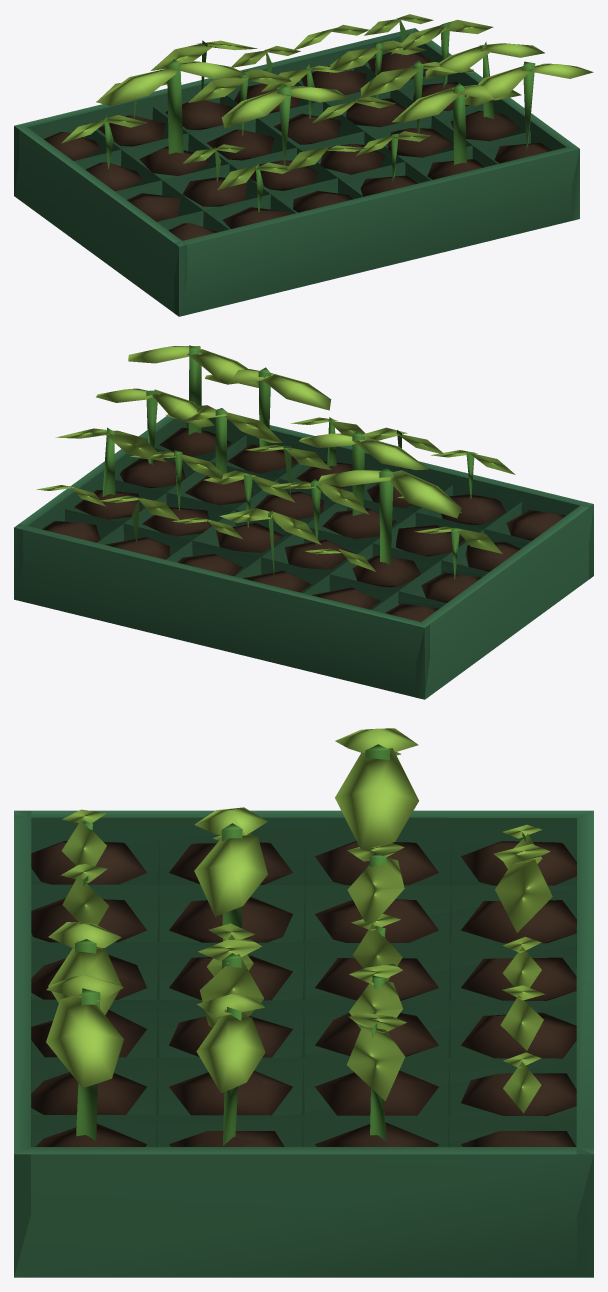
Rendered from canopy_seedling_flat_lod2.glb.
The picture shows the model from 3 angles, top to bottom: view 1: azimuth 30°, elevation 25°; view 2: azimuth 150°, elevation 25°; view 3: azimuth 270°, elevation 25°; orthographic projection. The views are drawn at different scales.
Visible parts, largest first — view 1: canopy_seedling_flat.001; view 2: canopy_seedling_flat.001; view 3: canopy_seedling_flat.001.
Part boxes in pixels (x1,y1,x2,y2): canopy_seedling_flat.001: (14,14,593,316); canopy_seedling_flat.001: (14,345,593,699); canopy_seedling_flat.001: (14,728,593,1277).
Bounding box in the file's own units: 7.81 × 2.59 × 4.97.
